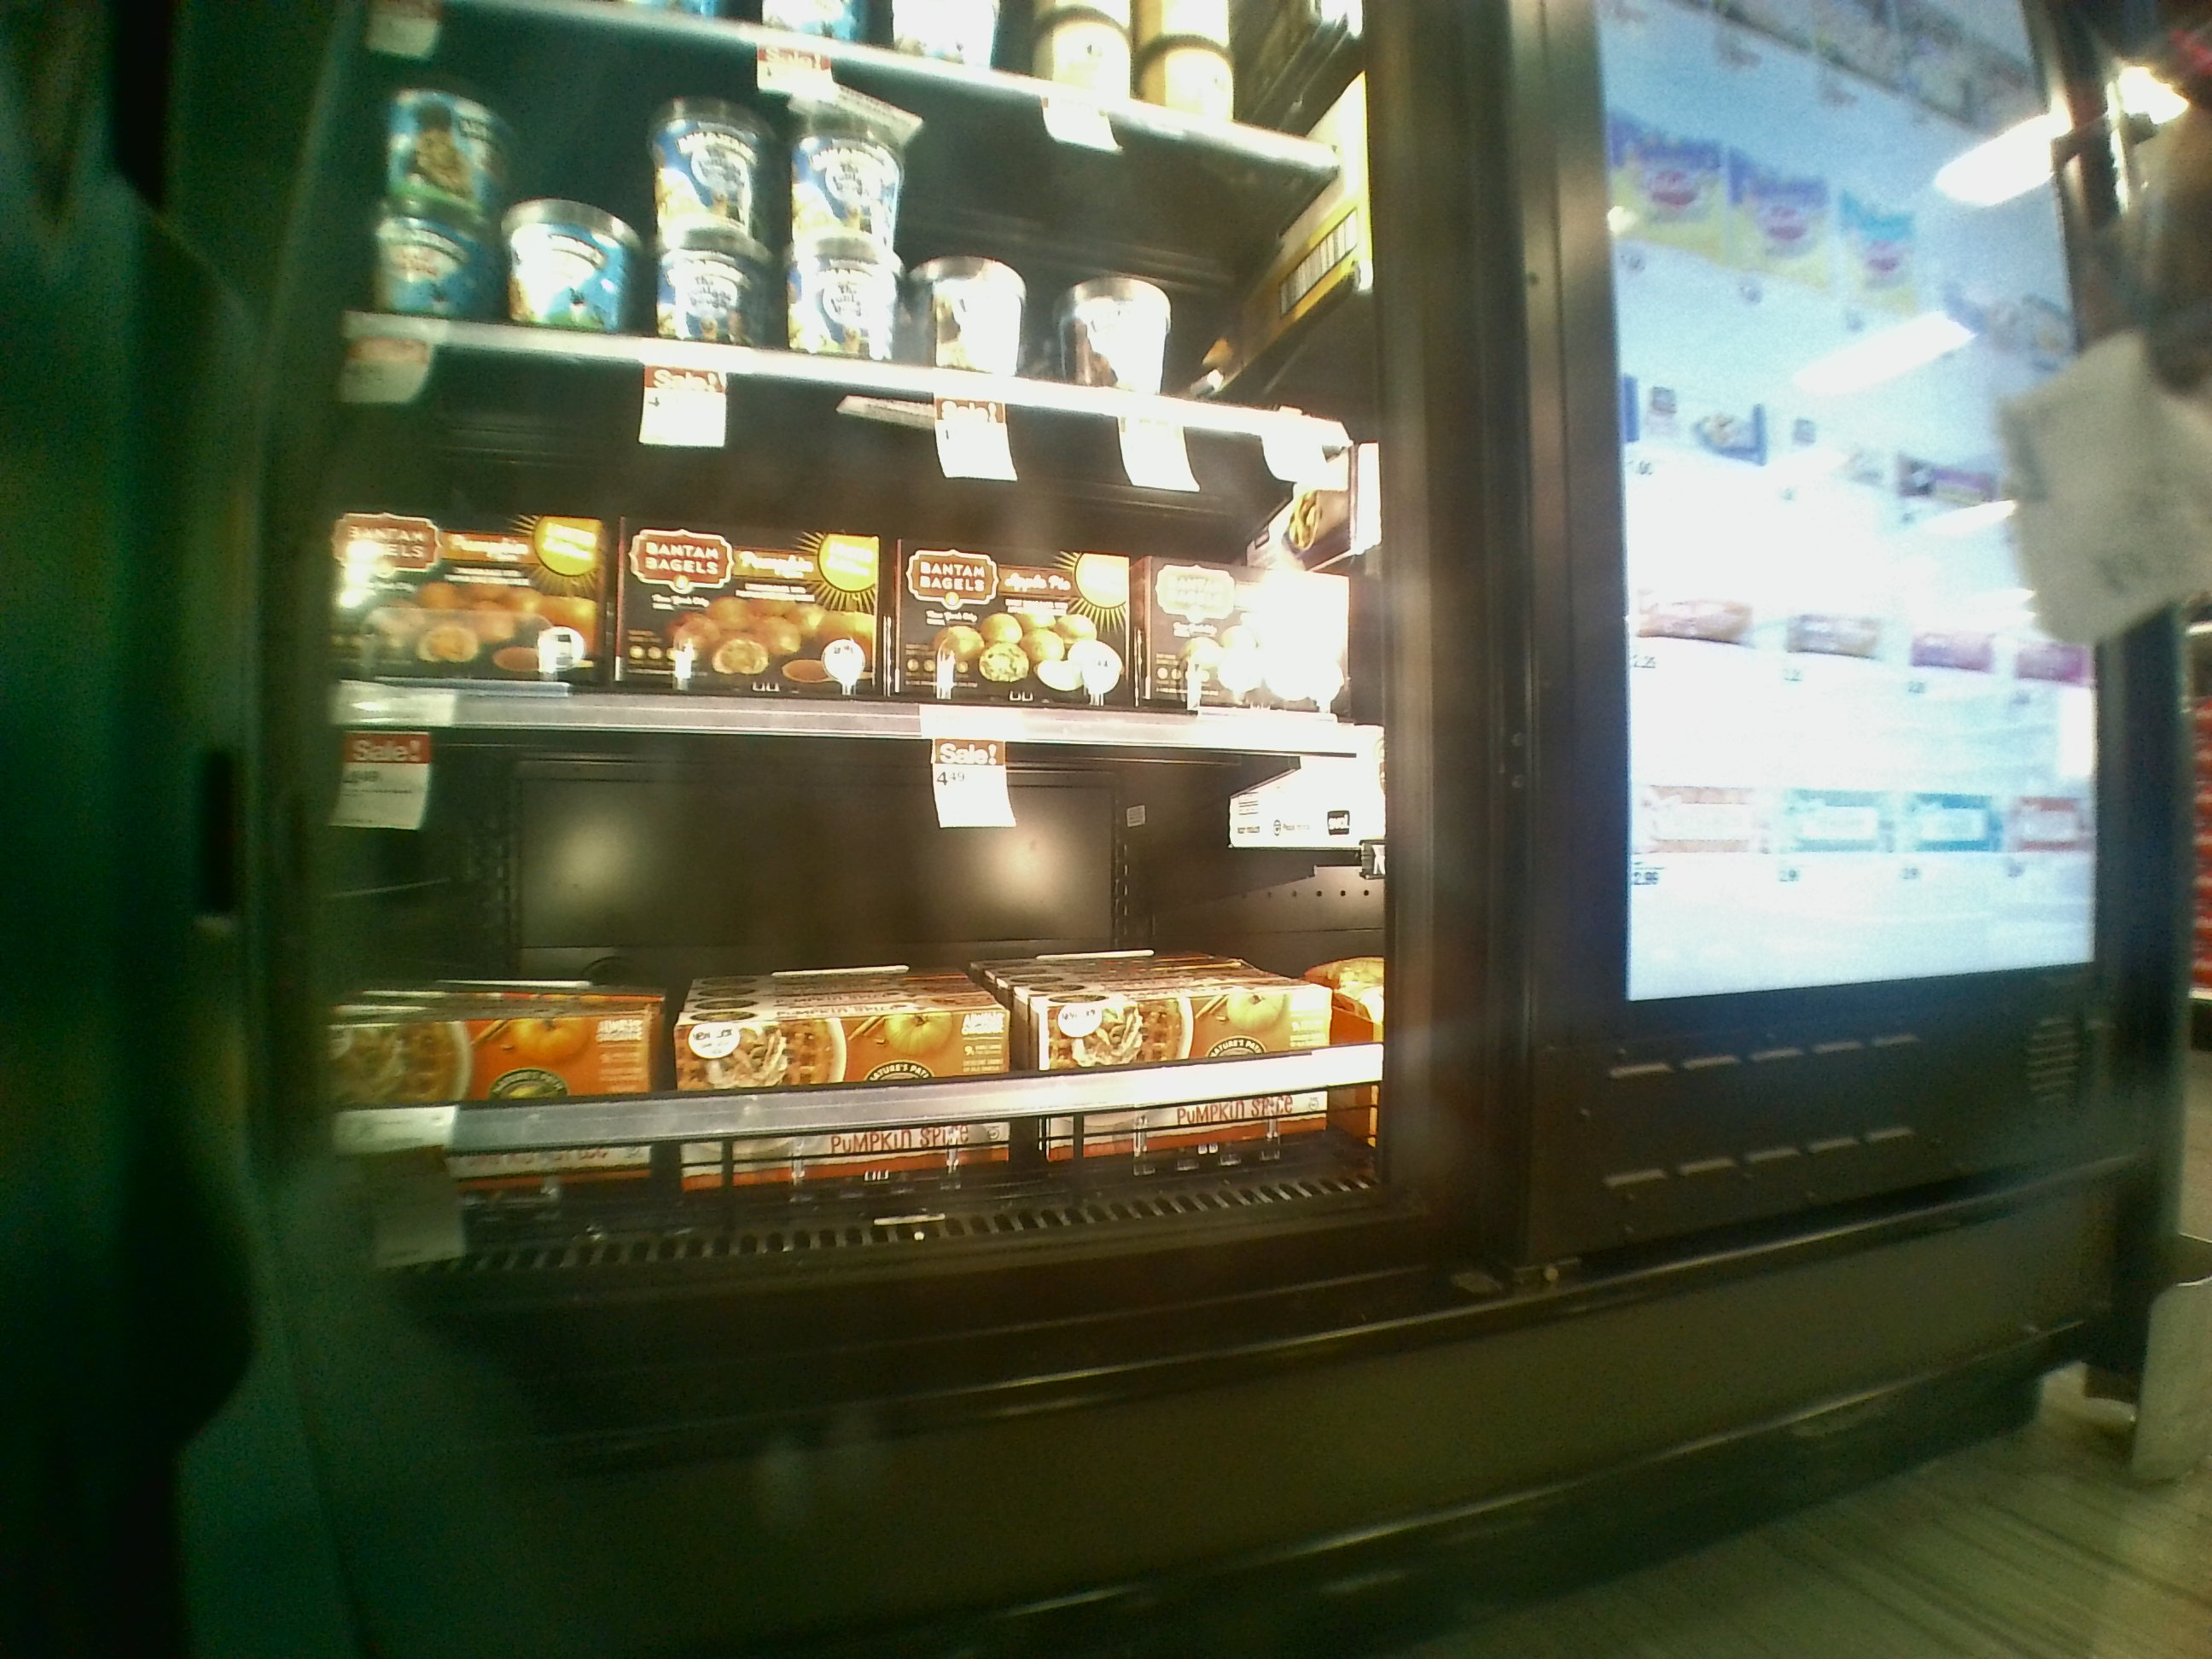shelf: (314, 695, 1383, 1276), (322, 319, 1399, 758)
